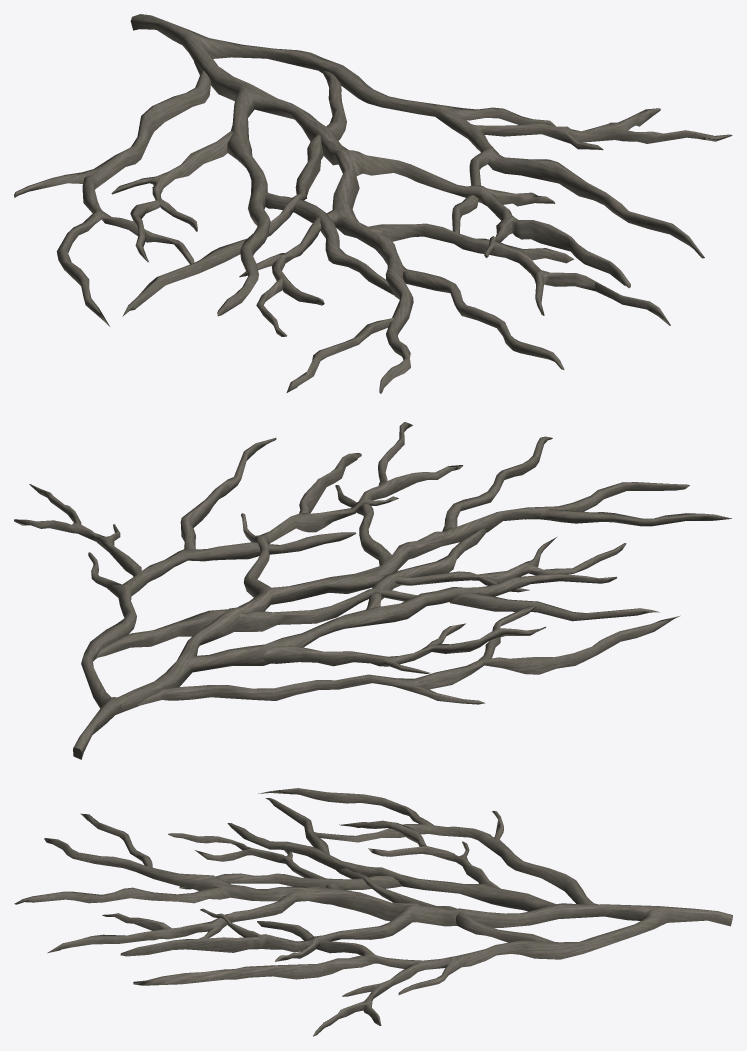
File: AEG228_252-transformed.glb
3 views of the same model, one above another, from view 1: azimuth 30°, elevation 25°; view 2: azimuth 150°, elevation 25°; view 3: azimuth 270°, elevation 25° (orthographic). The views are drawn at different scales.
Visible parts, largest first — view 1: default; view 2: default; view 3: default.
Boxes of the visible parts, <box> form: default: <box>14,14,732,393</box>; default: <box>14,422,731,759</box>; default: <box>14,788,732,1036</box>.
Bounding box in the file's own units: 10.89 × 0.4663 × 13.38.
1 material, 1 textured.
